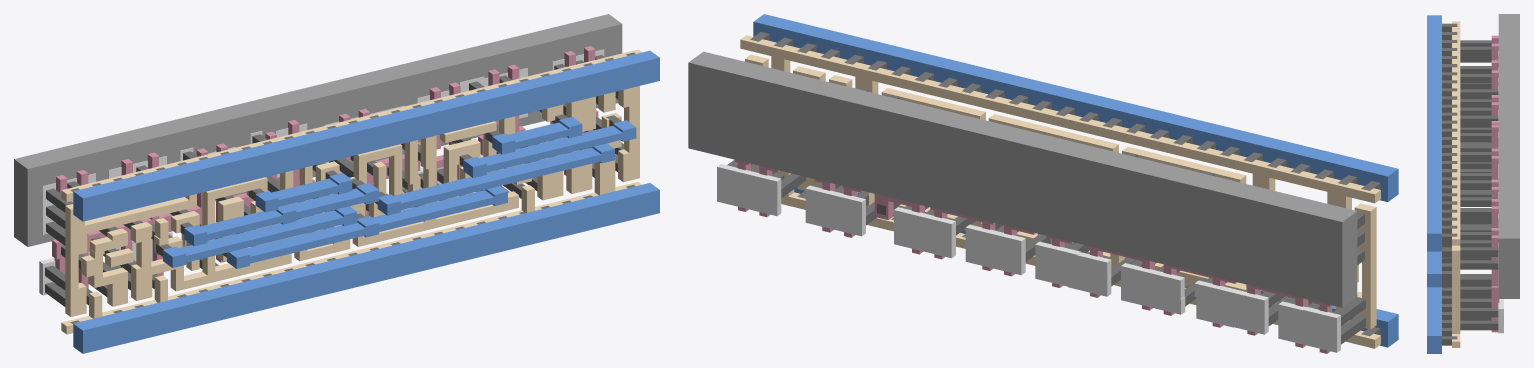
Rendered from sky130_fd_sc_hd__fah_1.gds.gltf.
3 views of the same model, side by side, from view 1: azimuth 30°, elevation 25°; view 2: azimuth 150°, elevation 25°; view 3: azimuth 270°, elevation 25° (orthographic). The views are drawn at different scales.
Visible parts, largest first — view 1: sky130_fd_sc_hd__fah_1_met1, sky130_fd_sc_hd__fah_1_li1, sky130_fd_sc_hd__fah_1_nwell, sky130_fd_sc_hd__fah_1_licon, sky130_fd_sc_hd__fah_1_poly, sky130_fd_sc_hd__fah_1_diff, sky130_fd_sc_hd__fah_1_mcon; view 2: sky130_fd_sc_hd__fah_1_nwell, sky130_fd_sc_hd__fah_1_diff, sky130_fd_sc_hd__fah_1_li1, sky130_fd_sc_hd__fah_1_met1, sky130_fd_sc_hd__fah_1_licon, sky130_fd_sc_hd__fah_1_mcon, sky130_fd_sc_hd__fah_1_poly; view 3: sky130_fd_sc_hd__fah_1_licon, sky130_fd_sc_hd__fah_1_nwell, sky130_fd_sc_hd__fah_1_met1, sky130_fd_sc_hd__fah_1_mcon, sky130_fd_sc_hd__fah_1_li1, sky130_fd_sc_hd__fah_1_poly, sky130_fd_sc_hd__fah_1_diff.
Part boxes in pixels (x1,y1,x2,y2): sky130_fd_sc_hd__fah_1_met1: (73,50,659,353); sky130_fd_sc_hd__fah_1_li1: (61,49,641,334); sky130_fd_sc_hd__fah_1_nwell: (14,14,622,246); sky130_fd_sc_hd__fah_1_licon: (45,55,623,306); sky130_fd_sc_hd__fah_1_poly: (52,46,598,290); sky130_fd_sc_hd__fah_1_diff: (39,49,604,295); sky130_fd_sc_hd__fah_1_mcon: (70,52,635,324); sky130_fd_sc_hd__fah_1_nwell: (688,51,1357,307); sky130_fd_sc_hd__fah_1_diff: (717,164,1340,352); sky130_fd_sc_hd__fah_1_li1: (740,35,1380,348); sky130_fd_sc_hd__fah_1_met1: (753,14,1398,347); sky130_fd_sc_hd__fah_1_licon: (727,88,1365,344); sky130_fd_sc_hd__fah_1_mcon: (750,32,1380,336); sky130_fd_sc_hd__fah_1_poly: (735,160,1332,353); sky130_fd_sc_hd__fah_1_licon: (1460,40,1498,330); sky130_fd_sc_hd__fah_1_nwell: (1498,14,1519,298); sky130_fd_sc_hd__fah_1_met1: (1427,15,1441,353); sky130_fd_sc_hd__fah_1_mcon: (1442,23,1457,345); sky130_fd_sc_hd__fah_1_li1: (1452,21,1460,347); sky130_fd_sc_hd__fah_1_poly: (1491,35,1499,332); sky130_fd_sc_hd__fah_1_diff: (1498,51,1503,333).
Size of the model in its own units: 12.8 by 3.2 by 2.24.
